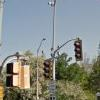Traffic light: (68, 33, 95, 68)
